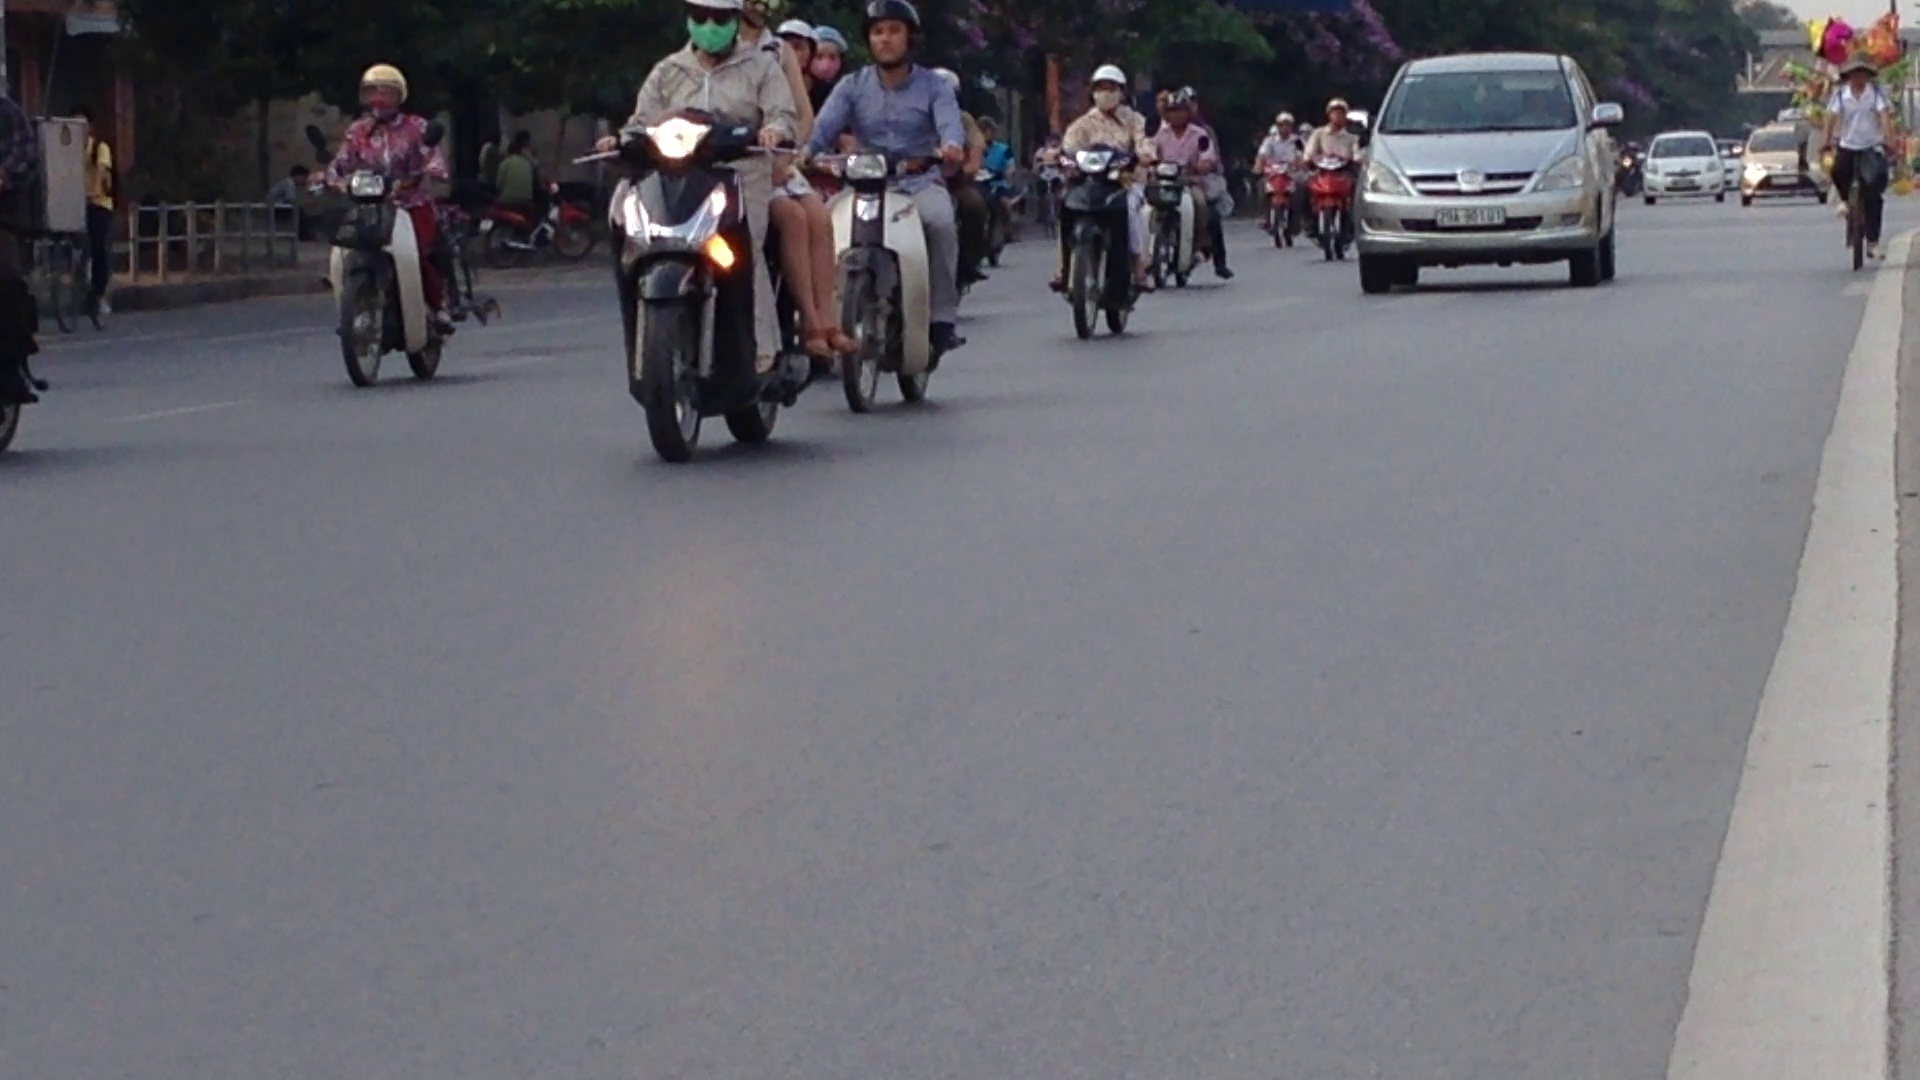vehicle-plate: (1432, 204, 1507, 224)
